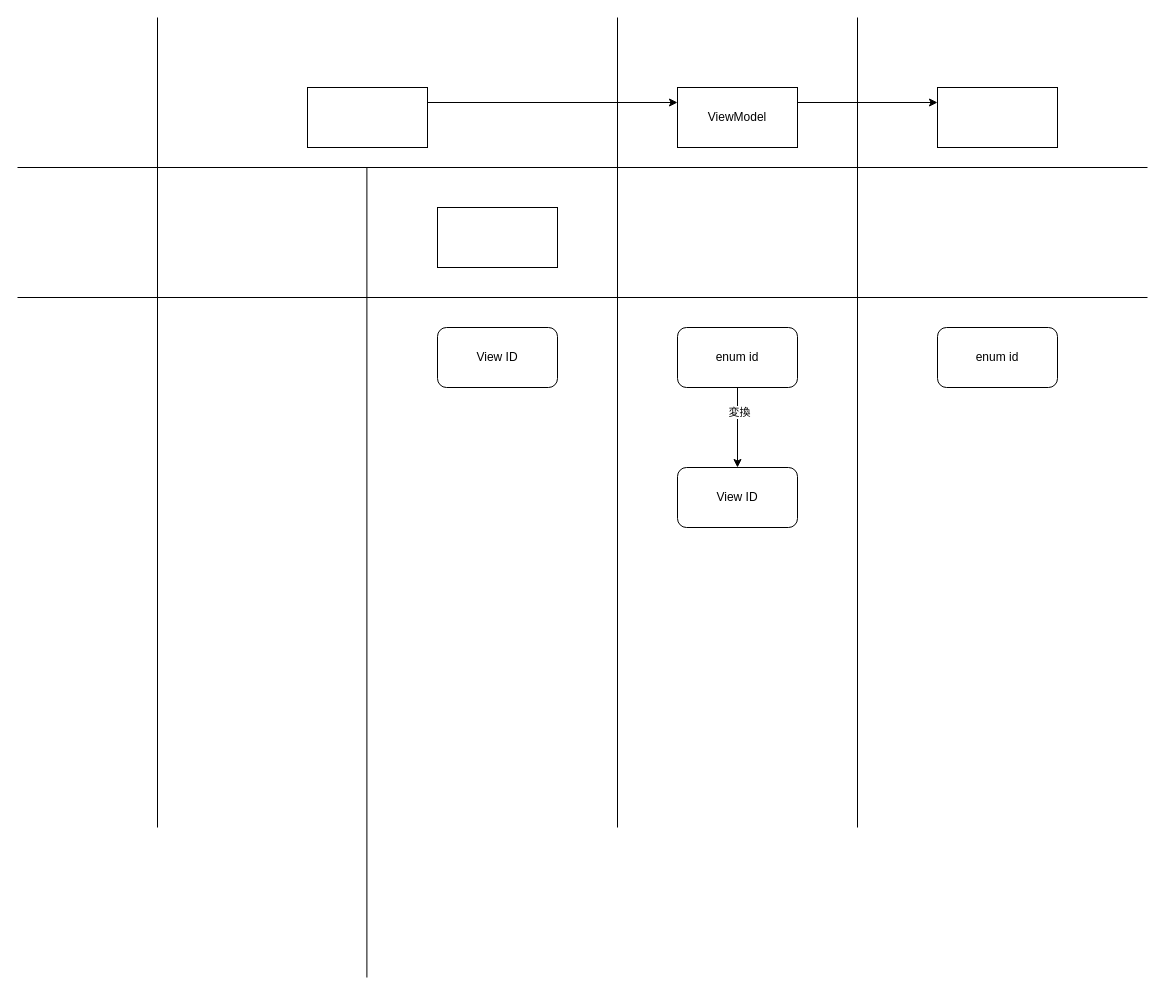
Some shapes in this 1166 by 996 pixel diagram are drawn without their labels. Each missing label, with the centre of its shape:
Activity: the point at 367,117
SharedPreference: the point at 997,117
View: the point at 497,237
